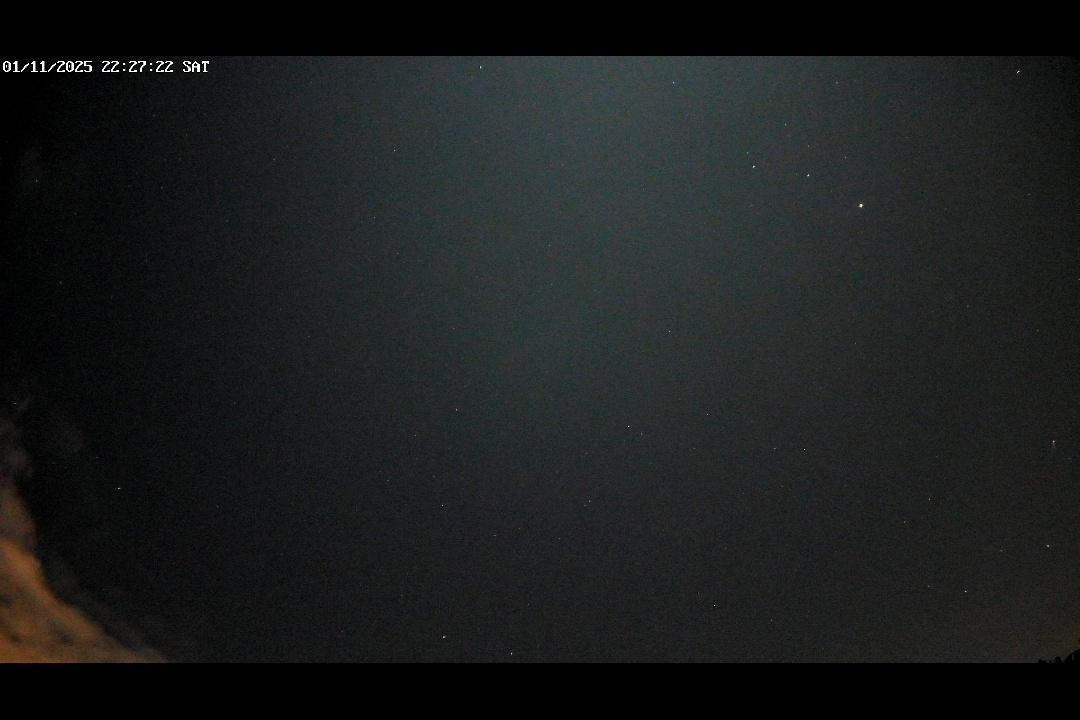Plane: (1044, 436, 1060, 459)
